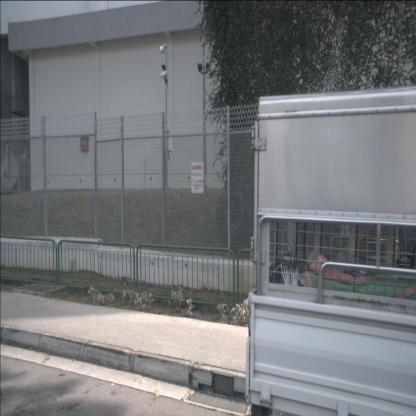vehicle-truck: (244, 84, 416, 416)
